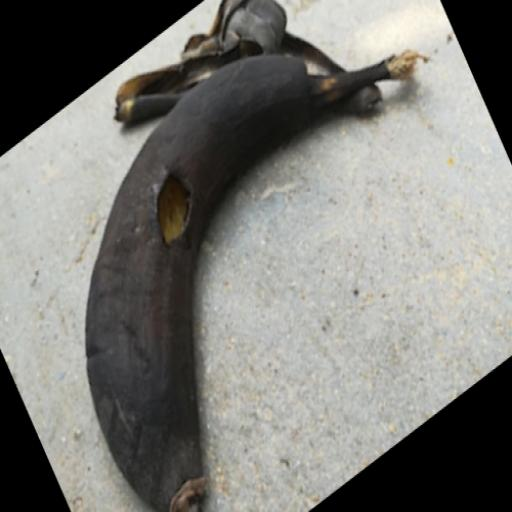banana-overripe: (63, 0, 424, 512)
